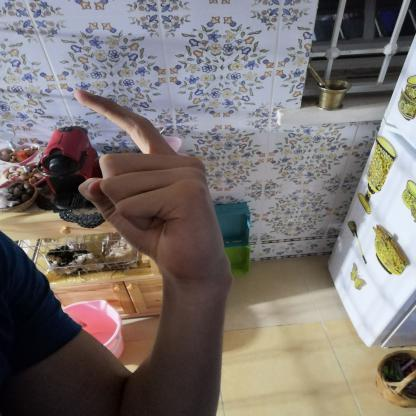RAA: (58, 81, 245, 285)
